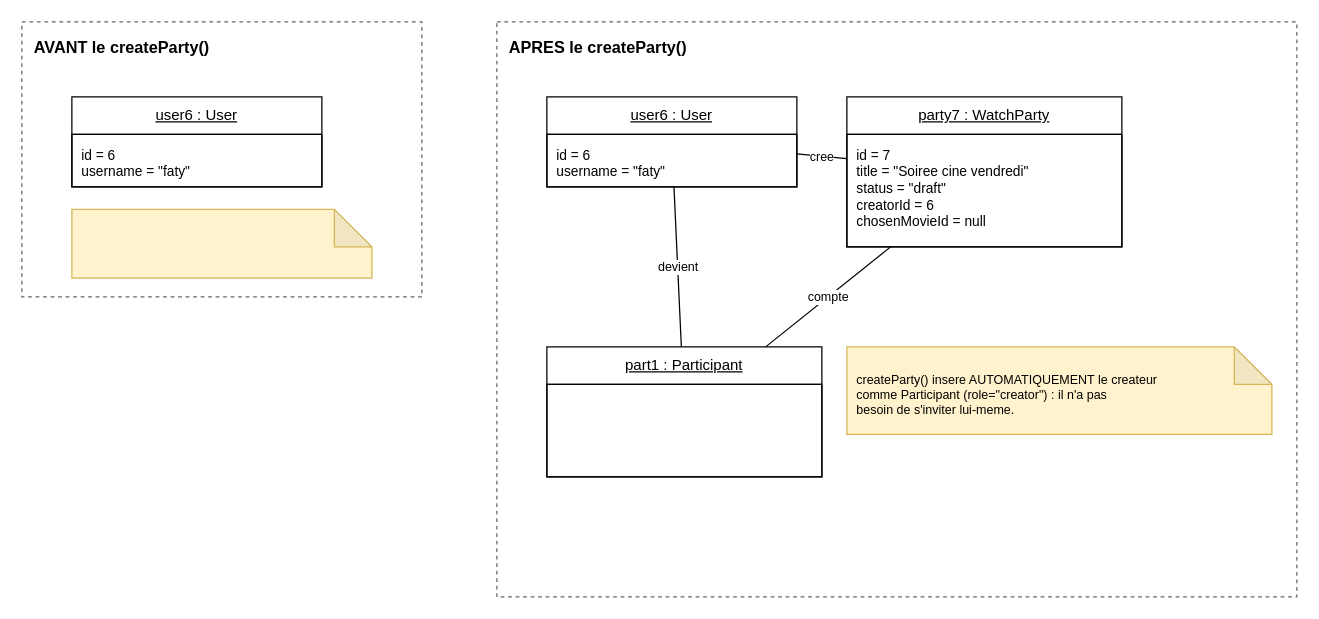
The diagram is 1319 pixels wide and 619 high, and some of its shapes have lost their labels. The shapes that lost their labels are listed below. From the top down, each one's centre as x and y in pixels, then its label:
the point at 221,243: Aucune instance WatchParty ni Participant n'existe encore pour cet utilisateur.
the point at 684,430: id = 9 watchPartyId = 7 userId = 6 role = "creator"
